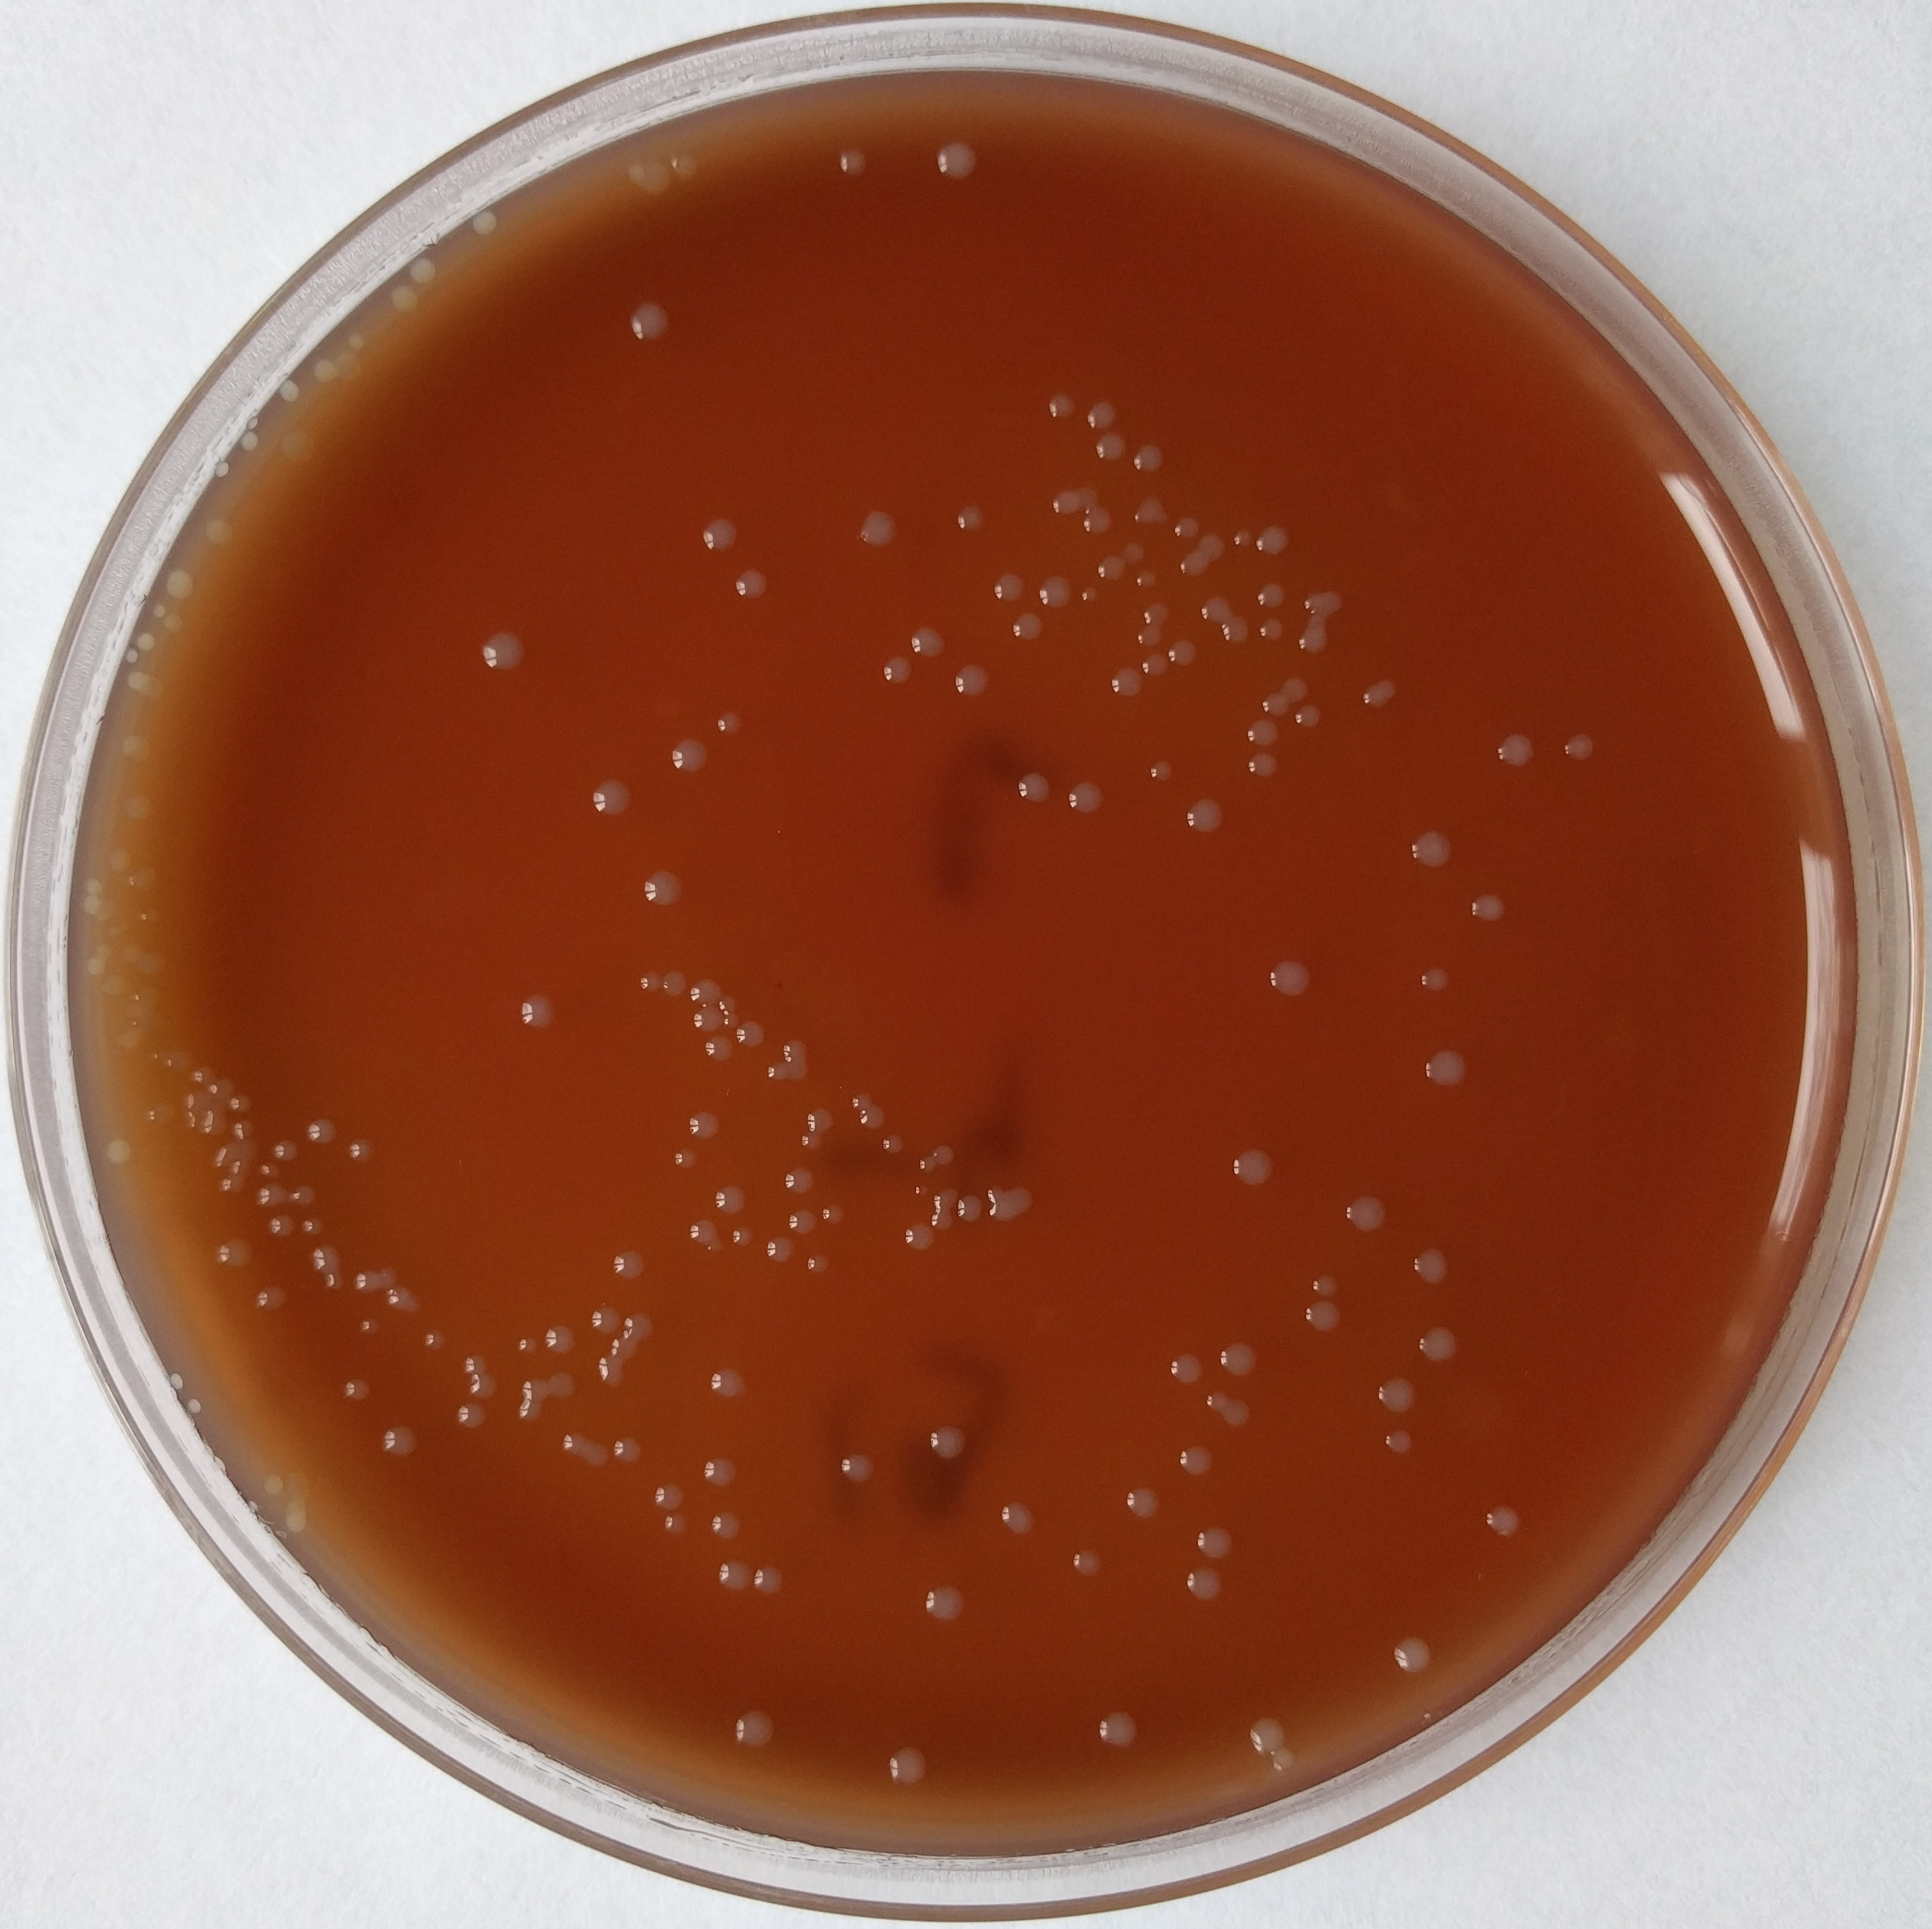sp16: (622, 293, 678, 355), (1337, 1189, 1393, 1245), (1402, 825, 1460, 874), (1259, 956, 1321, 1002), (1418, 1042, 1475, 1092), (830, 141, 883, 193), (915, 1583, 968, 1634), (691, 516, 751, 560), (1178, 793, 1231, 843), (1233, 1139, 1282, 1192), (512, 989, 565, 1039), (630, 869, 691, 912), (876, 1744, 936, 1786), (931, 141, 982, 191), (853, 507, 906, 555), (1413, 1321, 1464, 1369), (1409, 1238, 1455, 1291), (1388, 1627, 1434, 1680), (726, 1703, 781, 1747), (553, 1429, 609, 1471), (479, 625, 526, 673), (101, 1136, 150, 1180), (1035, 564, 1075, 617), (1217, 1339, 1270, 1380), (1372, 1373, 1420, 1417), (668, 738, 717, 781), (1187, 1524, 1238, 1565), (632, 154, 671, 207), (980, 1185, 1038, 1221), (1494, 728, 1542, 770), (1093, 1708, 1137, 1752), (1063, 779, 1106, 825), (1300, 1295, 1346, 1337), (200, 509, 240, 556), (701, 1365, 751, 1404), (380, 1284, 429, 1323), (1462, 889, 1513, 926), (1181, 1562, 1226, 1604), (731, 567, 777, 608), (1293, 609, 1333, 655), (376, 1420, 424, 1459), (1012, 767, 1056, 807), (1482, 1500, 1526, 1540), (588, 777, 634, 816), (925, 1424, 971, 1463), (1245, 1717, 1293, 1754), (924, 1180, 959, 1229), (1174, 1443, 1219, 1482), (274, 1500, 313, 1544), (694, 1456, 743, 1489), (998, 1496, 1038, 1537), (1102, 664, 1146, 701), (1377, 1420, 1422, 1457), (1063, 1544, 1109, 1579), (1088, 429, 1127, 470), (876, 650, 915, 691), (1008, 608, 1049, 647), (1250, 523, 1291, 562), (708, 1507, 747, 1547), (782, 1162, 821, 1203), (284, 433, 327, 470), (904, 624, 948, 659), (834, 1445, 878, 1480), (214, 1233, 258, 1268), (1042, 385, 1075, 431), (297, 1116, 344, 1148), (1125, 1484, 1164, 1523), (1415, 961, 1455, 998), (948, 500, 991, 535), (708, 1182, 751, 1217), (682, 1108, 726, 1141), (1130, 440, 1167, 479), (1166, 638, 1203, 677), (950, 1187, 985, 1228), (385, 284, 429, 316), (948, 664, 992, 696), (1241, 717, 1286, 749), (337, 1373, 376, 1408), (1243, 747, 1284, 781), (782, 1208, 823, 1242), (618, 1309, 659, 1343), (650, 1480, 692, 1512), (1083, 394, 1118, 431), (901, 1219, 938, 1254), (763, 1233, 800, 1268), (689, 975, 724, 1012), (115, 728, 150, 765), (1162, 1350, 1201, 1383), (609, 1247, 648, 1281), (985, 571, 1026, 602), (247, 1180, 290, 1210), (751, 1565, 786, 1600), (542, 1321, 577, 1357), (1081, 505, 1118, 539), (251, 1282, 288, 1316), (1194, 592, 1233, 624), (260, 1214, 302, 1242), (1132, 493, 1166, 528), (1091, 551, 1127, 585), (1176, 551, 1210, 586), (1252, 572, 1286, 608), (715, 1556, 751, 1590), (164, 569, 200, 602), (406, 256, 443, 288), (1130, 569, 1167, 601), (1194, 530, 1226, 567), (733, 1019, 770, 1051), (586, 1304, 623, 1335), (113, 1019, 145, 1056), (452, 1401, 491, 1431), (138, 1097, 177, 1127), (304, 1245, 344, 1274), (664, 154, 698, 187), (611, 1434, 645, 1468), (1219, 613, 1250, 648), (1254, 615, 1289, 647), (1563, 731, 1595, 767), (659, 966, 691, 1002), (514, 1397, 549, 1429), (595, 1355, 630, 1387), (466, 208, 505, 237), (1305, 1272, 1344, 1300), (800, 1106, 839, 1134), (546, 1365, 574, 1404), (341, 325, 373, 359), (699, 1032, 731, 1065), (608, 1328, 639, 1362), (1256, 687, 1291, 717), (417, 1328, 454, 1357), (761, 1060, 793, 1092), (853, 1104, 887, 1134), (129, 864, 164, 892), (466, 1371, 503, 1397), (1291, 701, 1323, 731), (691, 1002, 721, 1033), (1139, 650, 1173, 678), (712, 708, 745, 737), (802, 1249, 835, 1277), (1128, 622, 1164, 648), (1201, 1392, 1236, 1418), (517, 1378, 553, 1404), (685, 1219, 726, 1242), (1358, 673, 1383, 710), (1224, 1397, 1254, 1427), (728, 1226, 759, 1254), (348, 1134, 376, 1166), (818, 1201, 851, 1228), (122, 788, 155, 814), (106, 843, 131, 878), (125, 991, 161, 1016), (223, 1095, 263, 1116), (1280, 677, 1310, 705), (669, 1145, 699, 1173), (1146, 753, 1178, 779), (348, 1267, 380, 1293), (141, 949, 168, 980), (207, 1138, 233, 1169), (355, 1312, 389, 1337), (311, 355, 336, 389), (874, 1127, 902, 1155), (1051, 493, 1081, 519), (1072, 484, 1102, 511), (659, 1509, 689, 1535), (931, 1143, 957, 1173), (291, 1182, 321, 1208), (203, 1078, 235, 1102), (132, 904, 164, 929), (796, 1127, 825, 1154), (297, 1212, 325, 1238), (1173, 516, 1203, 541), (1121, 539, 1146, 569), (268, 1138, 298, 1162), (215, 1176, 245, 1201), (200, 1106, 224, 1136), (1314, 590, 1342, 615), (636, 968, 660, 996), (189, 1063, 217, 1088), (83, 952, 108, 980), (104, 968, 129, 996), (1075, 583, 1102, 608), (512, 1332, 539, 1357), (1272, 1745, 1296, 1772), (231, 1113, 258, 1138), (1139, 602, 1173, 622), (1300, 588, 1323, 617), (782, 1039, 811, 1062), (849, 1088, 878, 1111), (258, 1470, 286, 1493), (277, 380, 306, 403), (1374, 677, 1395, 707), (463, 1353, 487, 1378), (164, 611, 189, 636), (117, 643, 140, 669), (102, 917, 129, 940), (1233, 525, 1254, 553), (166, 1051, 194, 1072), (235, 1134, 260, 1157), (76, 896, 101, 919), (627, 161, 648, 187), (717, 1007, 740, 1030), (786, 1056, 809, 1079), (323, 1267, 346, 1290), (376, 1265, 397, 1290), (182, 1394, 203, 1418), (124, 669, 148, 691), (79, 876, 106, 896), (913, 1154, 941, 1171), (703, 1237, 724, 1260), (715, 993, 736, 1016), (166, 1367, 191, 1387), (226, 1159, 251, 1178), (240, 433, 265, 452), (131, 629, 155, 648), (909, 1178, 931, 1199), (180, 1111, 198, 1136), (212, 463, 233, 482), (122, 942, 140, 963), (254, 1161, 277, 1175), (148, 604, 168, 620), (185, 1093, 201, 1113), (147, 1048, 168, 1062)
